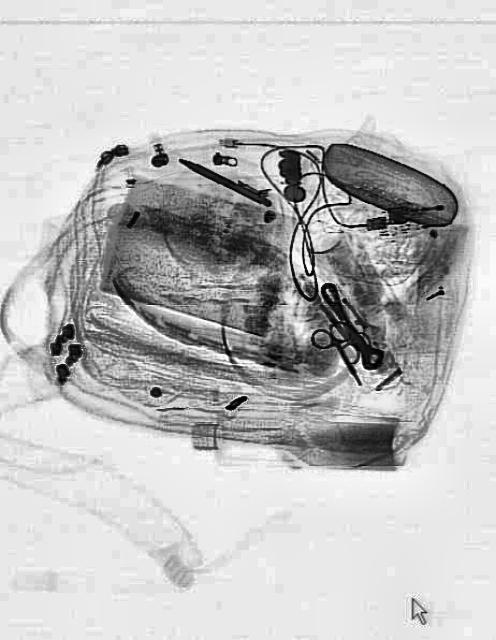Scissors: (308, 310, 378, 402)
